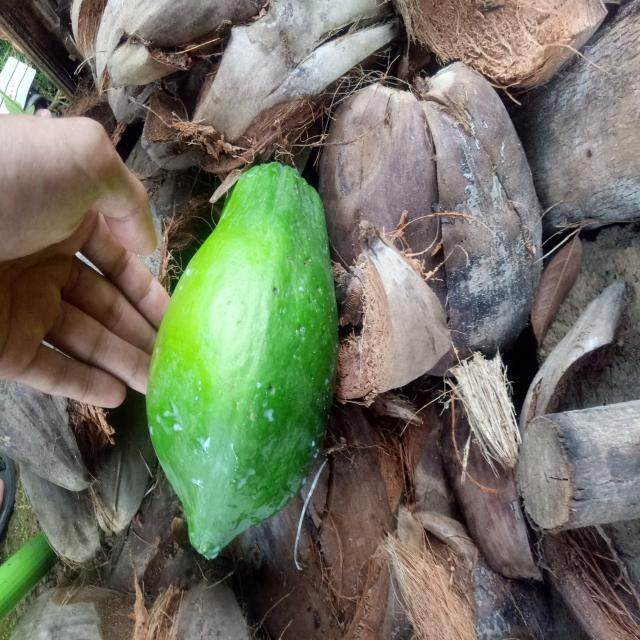Pepaya unrippen: (148, 156, 340, 561)
